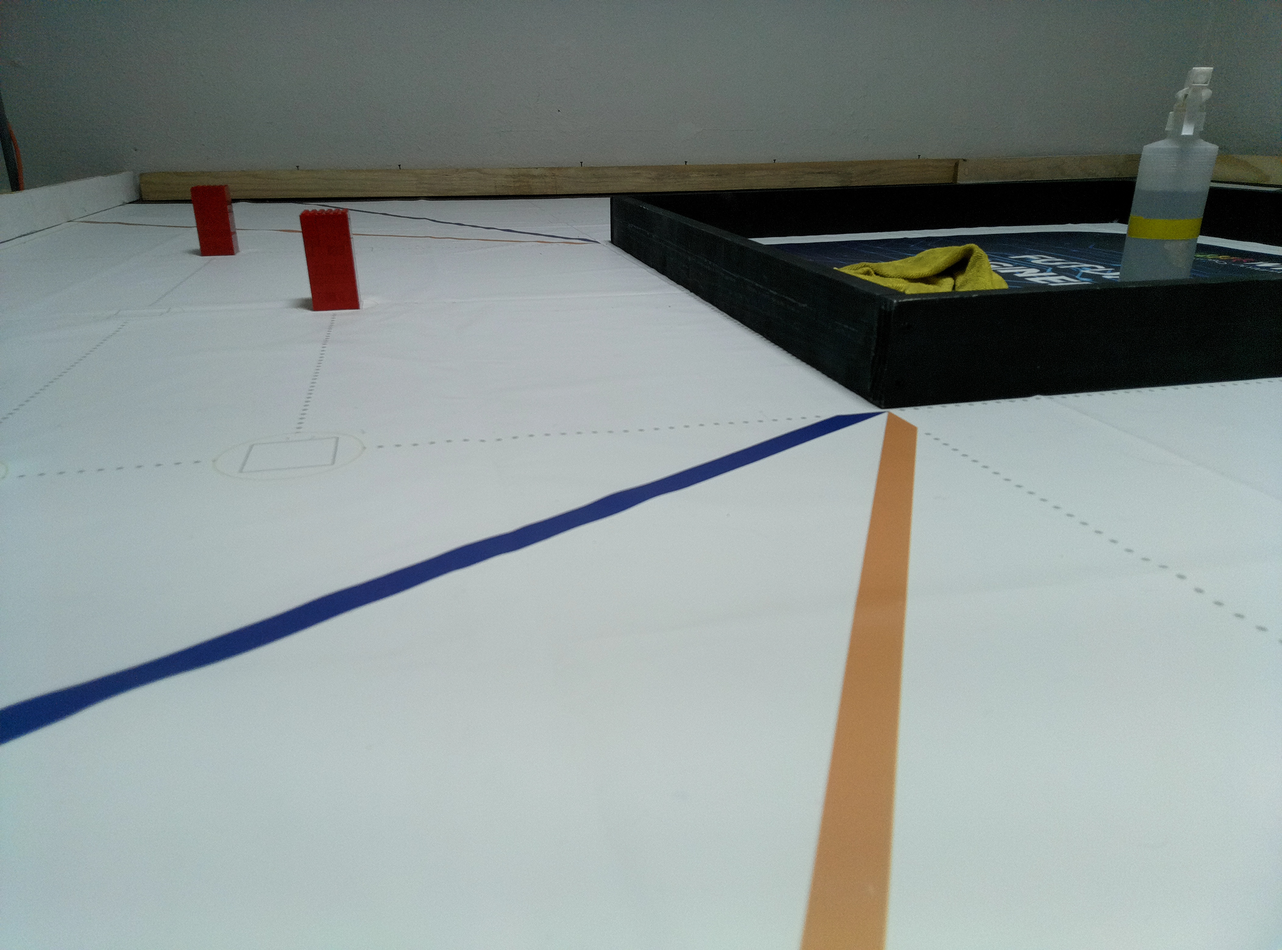redbox: (297, 209, 363, 312), (189, 183, 242, 257)
